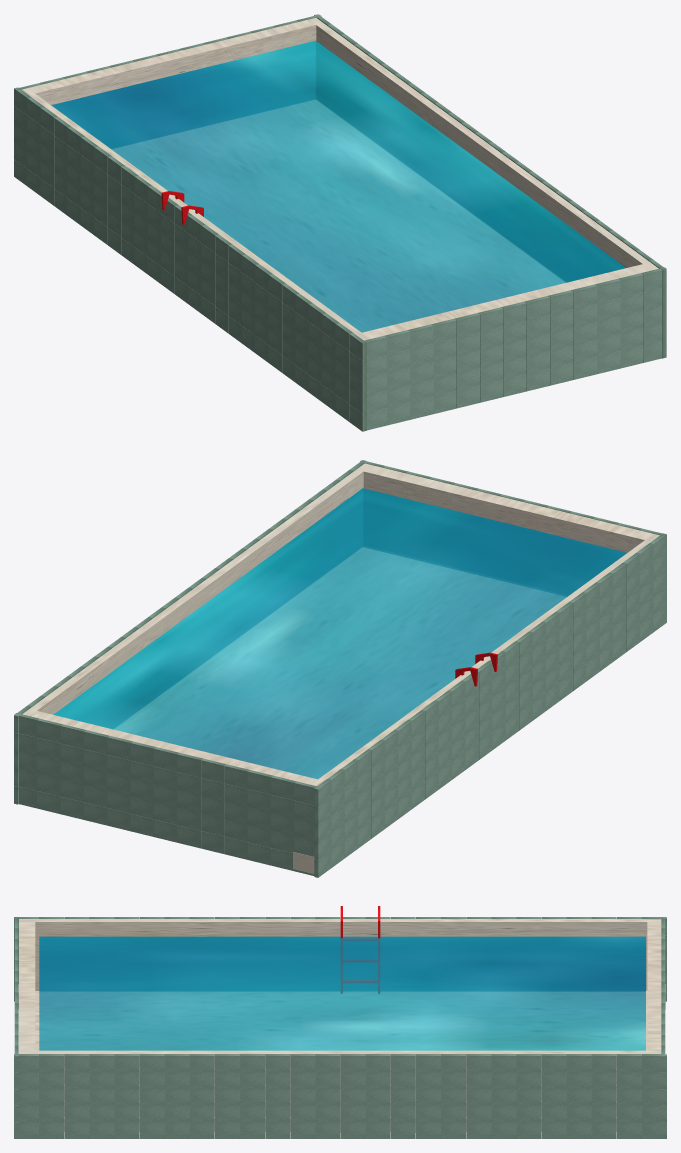
File: giant_swimming_pool.glb
3 renders of one model, top to bottom at view 1: azimuth 30°, elevation 25°; view 2: azimuth 150°, elevation 25°; view 3: azimuth 270°, elevation 25°, orthographic. The views are drawn at different scales.
Parts seen in each view (by area): view 1: Cube.001_Material.001_0, Cube_Material.002_0, Cube.005_Material_0; view 2: Cube.001_Material.001_0, Cube_Material.002_0, Cube.005_Material_0; view 3: Cube.001_Material.001_0, Cube.005_Material_0, Cube_Material.002_0, Cube.002_Material.003_0.
Part boxes in pixels (left/top/right/bottom): Cube.001_Material.001_0: left=51, top=40, right=625, bottom=332; Cube_Material.002_0: left=21, top=18, right=658, bottom=340; Cube.005_Material_0: left=14, top=14, right=666, bottom=431; Cube.001_Material.001_0: left=53, top=488, right=627, bottom=779; Cube_Material.002_0: left=22, top=463, right=659, bottom=873; Cube.005_Material_0: left=14, top=460, right=666, bottom=877; Cube.001_Material.001_0: left=39, top=936, right=645, bottom=1050; Cube.005_Material_0: left=14, top=917, right=666, bottom=1138; Cube_Material.002_0: left=18, top=919, right=665, bottom=1132; Cube.002_Material.003_0: left=340, top=906, right=380, bottom=993.
Size of the model in its own units: 110 by 35.52 by 214.
4 materials, 4 textured.
